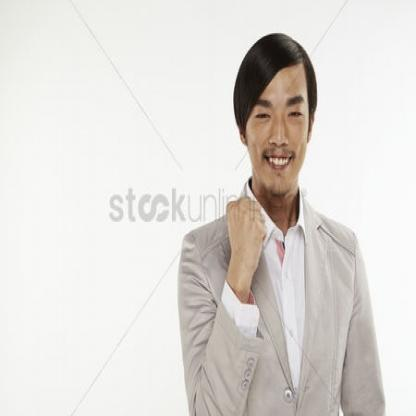fist: (216, 178, 275, 280)
